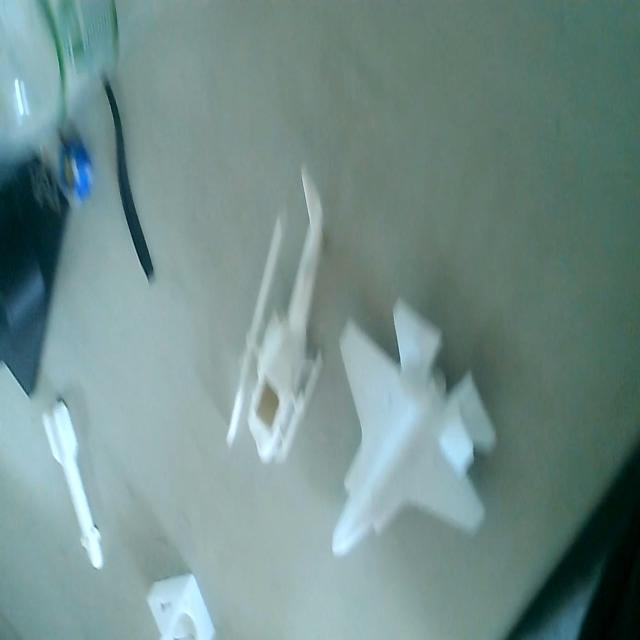Helicopter: (228, 165, 326, 482)
Jet: (330, 296, 496, 569)
Rocket: (40, 397, 106, 574)
